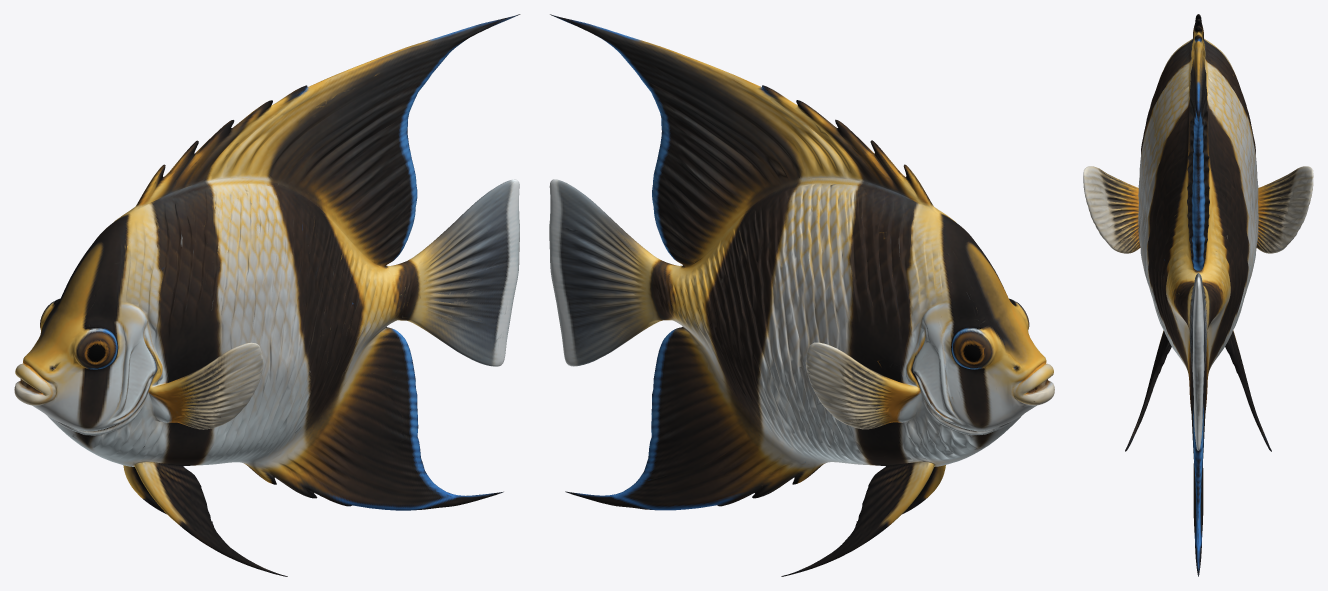
File: angelfish.glb
The picture shows the model from 3 angles, left to right: view 1: azimuth 30°, elevation 25°; view 2: azimuth 150°, elevation 25°; view 3: azimuth 270°, elevation 25°; orthographic projection. The views are drawn at different scales.
Bounding box in the file's own units: 0.8906 × 0.8049 × 0.3614.
1 material, 1 textured.
